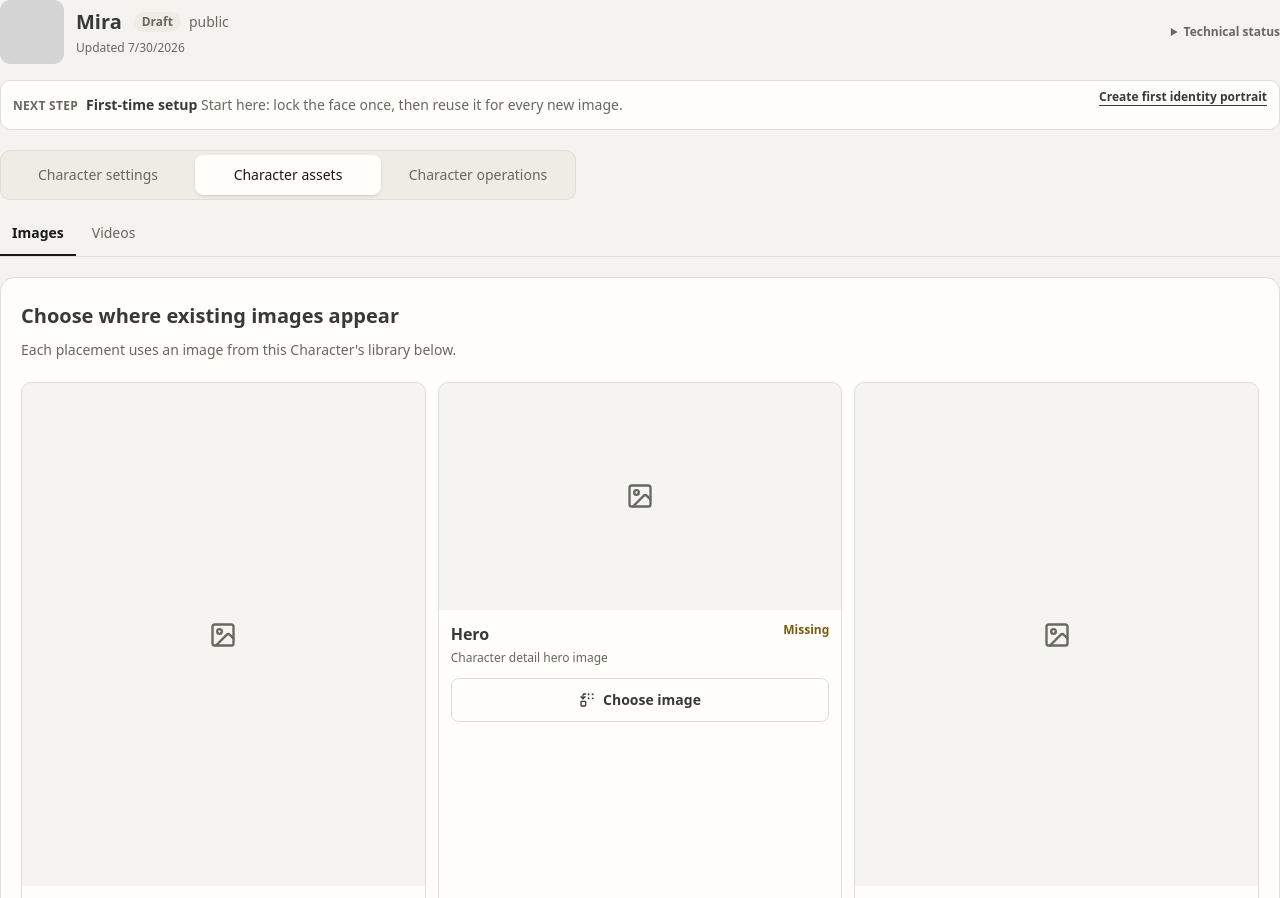
Scenario: Character workspace details › keeps image placements with the image library, not in launch preview
Click the button "Character operations" at x=478, y=175, box [385,155,571,195]
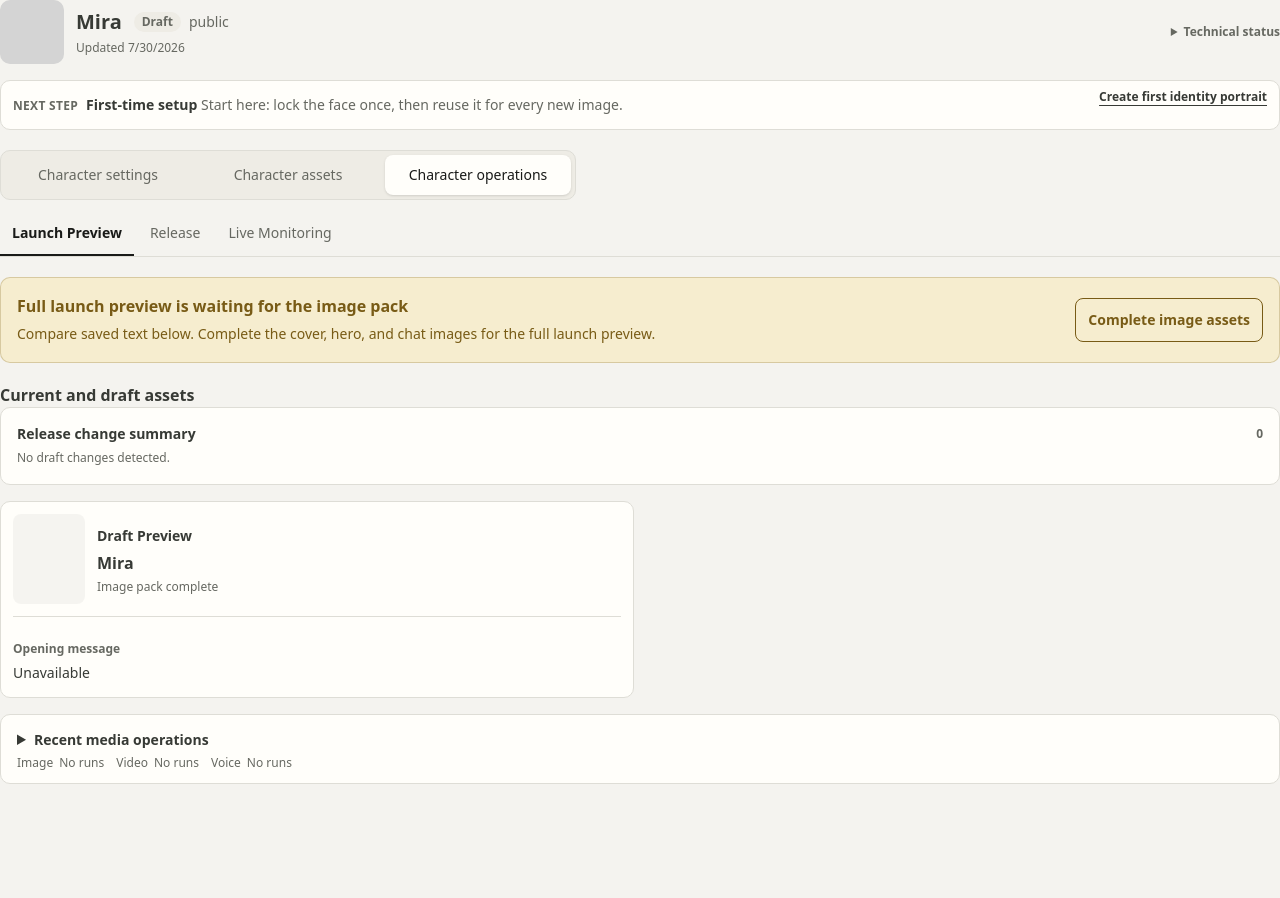
Check: the text "Choose where existing images appear" is gone
